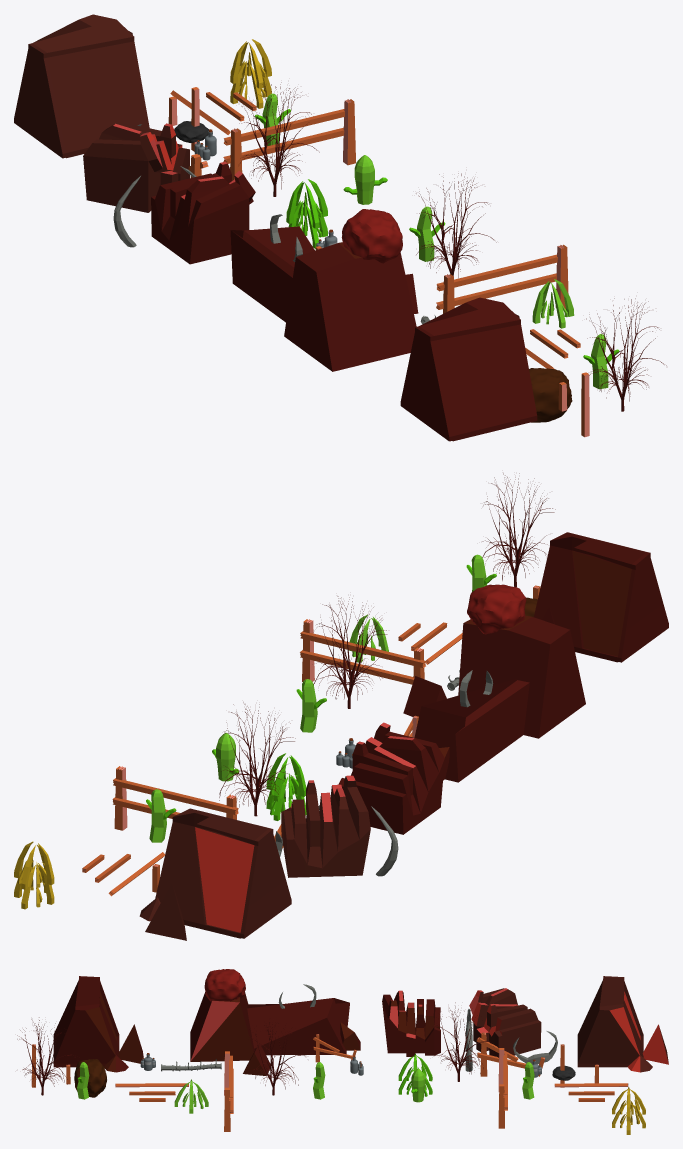
The model's file is Plantas.obj.
3 renders of one model, top to bottom at view 1: azimuth 30°, elevation 25°; view 2: azimuth 150°, elevation 25°; view 3: azimuth 270°, elevation 25°, orthographic. The views are drawn at different scales.
Visible parts, largest first — view 1: Cube.002, Cube.001, Cube.006, Cube.003, Cube.012, Cube_Cube.002, tree, tree.003, Cube.002_Cube.001, tree.004, Cube.040, Cube.051 (+6 smaller); view 2: Cube.002, Cube.006, Cube.001, Cube.003, Cube.012, Cube_Cube.002, tree, tree.003, tree.004, Cube.040, Cube.051, Cube.042 (+4 smaller); view 3: Cube.002, Cube.006, Cube.001, Cube.012, Cube.003, Cube_Cube.002, Cylinder.016, tree.003, tree.004, tree, Cube.002_Cube.001, Cylinder.003 (+8 smaller).
Part boxes in pixels (x1=…): Cube.002: x1=230, y1=226, x2=418, y2=371; Cube.001: x1=400, y1=297, x2=537, y2=441; Cube.006: x1=14, y1=14, x2=149, y2=158; Cube.003: x1=151, y1=161, x2=255, y2=264; Cube.012: x1=83, y1=122, x2=189, y2=212; Cube_Cube.002: x1=341, y1=209, x2=402, y2=263; tree: x1=236, y1=82, x2=319, y2=196; tree.003: x1=586, y1=298, x2=666, y2=411; Cube.002_Cube.001: x1=529, y1=368, x2=572, y2=422; tree.004: x1=416, y1=173, x2=496, y2=277; Cube.040: x1=436, y1=254, x2=557, y2=291; Cube.051: x1=224, y1=109, x2=344, y2=145; Cube.002: x1=403, y1=615, x2=585, y2=782; Cube.006: x1=139, y1=808, x2=291, y2=940; Cube.001: x1=534, y1=532, x2=668, y2=662; Cube.003: x1=338, y1=722, x2=444, y2=834; Cube.012: x1=281, y1=775, x2=370, y2=877; Cube_Cube.002: x1=467, y1=584, x2=526, y2=634; tree: x1=219, y1=702, x2=295, y2=816; tree.003: x1=482, y1=473, x2=555, y2=587; tree.004: x1=313, y1=596, x2=387, y2=708; Cube.040: x1=300, y1=631, x2=425, y2=667; Cube.051: x1=113, y1=778, x2=238, y2=815; Cube.042: x1=300, y1=650, x2=414, y2=684; Cube.002: x1=190, y1=973, x2=360, y2=1075; Cube.006: x1=577, y1=976, x2=668, y2=1072; Cube.001: x1=53, y1=976, x2=143, y2=1072; Cube.012: x1=469, y1=988, x2=541, y2=1057; Cube.003: x1=382, y1=990, x2=440, y2=1056; Cube_Cube.002: x1=204, y1=969, x2=245, y2=1001; Cylinder.016: x1=161, y1=984, x2=557, y2=1071; tree.003: x1=17, y1=1017, x2=77, y2=1095; tree.004: x1=248, y1=1020, x2=305, y2=1095; tree: x1=434, y1=1002, x2=493, y2=1081; Cube.002_Cube.001: x1=74, y1=1059, x2=106, y2=1097; Cylinder.003: x1=411, y1=1068, x2=425, y2=1102.
Bounding box in the file's own units: 6.56 × 3.35 × 19.9.
